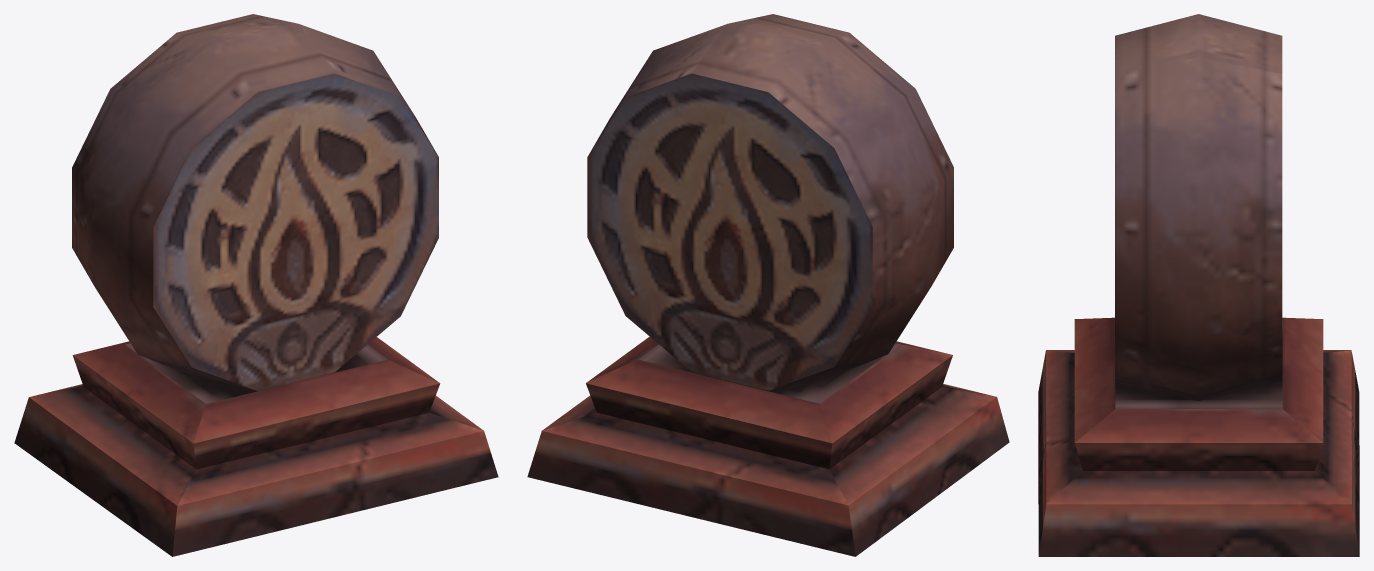
File: huoguanshigu.FBX
3 views of the same model, side by side, from view 1: azimuth 30°, elevation 25°; view 2: azimuth 150°, elevation 25°; view 3: azimuth 270°, elevation 25° (orthographic). The views are drawn at different scales.
Visible parts, largest first — view 1: huoguanshigu; view 2: huoguanshigu; view 3: huoguanshigu.
Boxes of the visible parts, <box> form: huoguanshigu: <box>14,14,498,556</box>; huoguanshigu: <box>527,14,1009,556</box>; huoguanshigu: <box>1038,14,1359,556</box>.
Size of the model in its own units: 927 by 764 by 1150.
